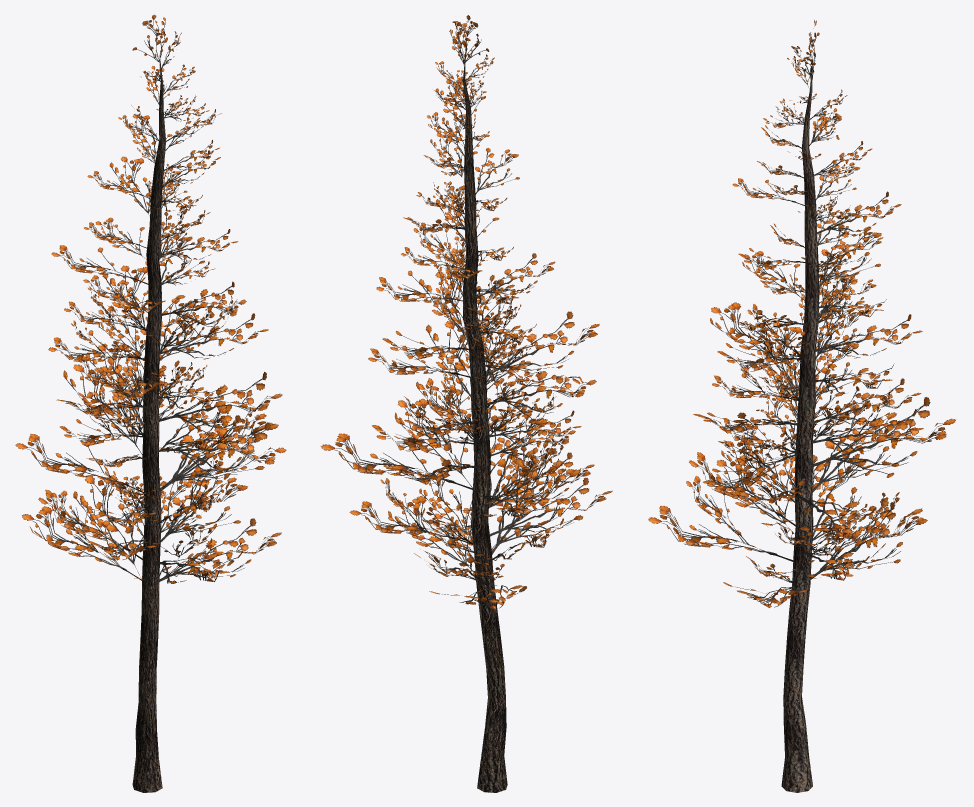
The model's file is tree 02.glb.
3 renders of one model, left to right at view 1: azimuth 30°, elevation 25°; view 2: azimuth 150°, elevation 25°; view 3: azimuth 270°, elevation 25°, orthographic.
Parts seen in each view (by area): view 1: Object_2; view 2: Object_2; view 3: Object_2.
Boxes of the visible parts, bbox=[...] form: Object_2: bbox=[15, 14, 286, 792]; Object_2: bbox=[320, 15, 612, 792]; Object_2: bbox=[648, 20, 955, 792].
Bounding box in the file's own units: 337071 × 969779 × 355421.
1 material, 1 textured.
